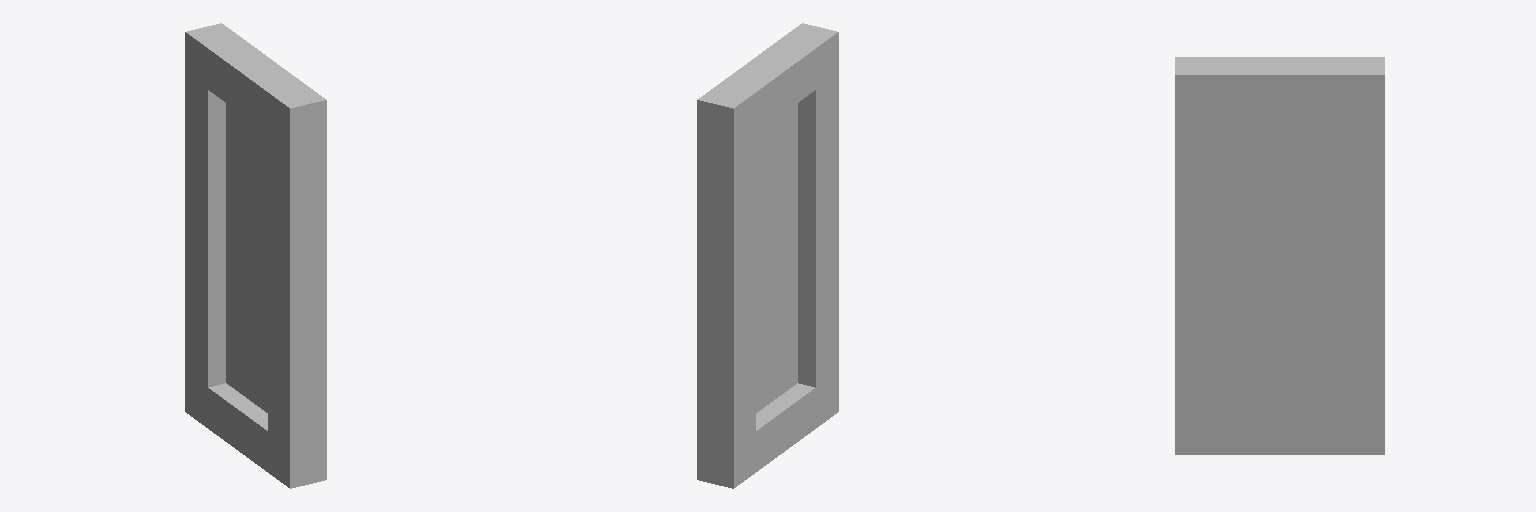
3 views of the same model, side by side, from view 1: azimuth 30°, elevation 25°; view 2: azimuth 150°, elevation 25°; view 3: azimuth 270°, elevation 25° (orthographic).
Visible parts, largest first — view 1: G-__556266_G-__556266_Wood; view 2: G-__556266_G-__556266_Wood; view 3: G-__556266_G-__556266_Wood.
Boxes of the visible parts, box(x1,y1,x2,y2) form: G-__556266_G-__556266_Wood: box(185, 23, 326, 488); G-__556266_G-__556266_Wood: box(697, 23, 838, 488); G-__556266_G-__556266_Wood: box(1175, 57, 1384, 454).
Size of the model in its own units: 0.05 by 0.5 by 0.25.